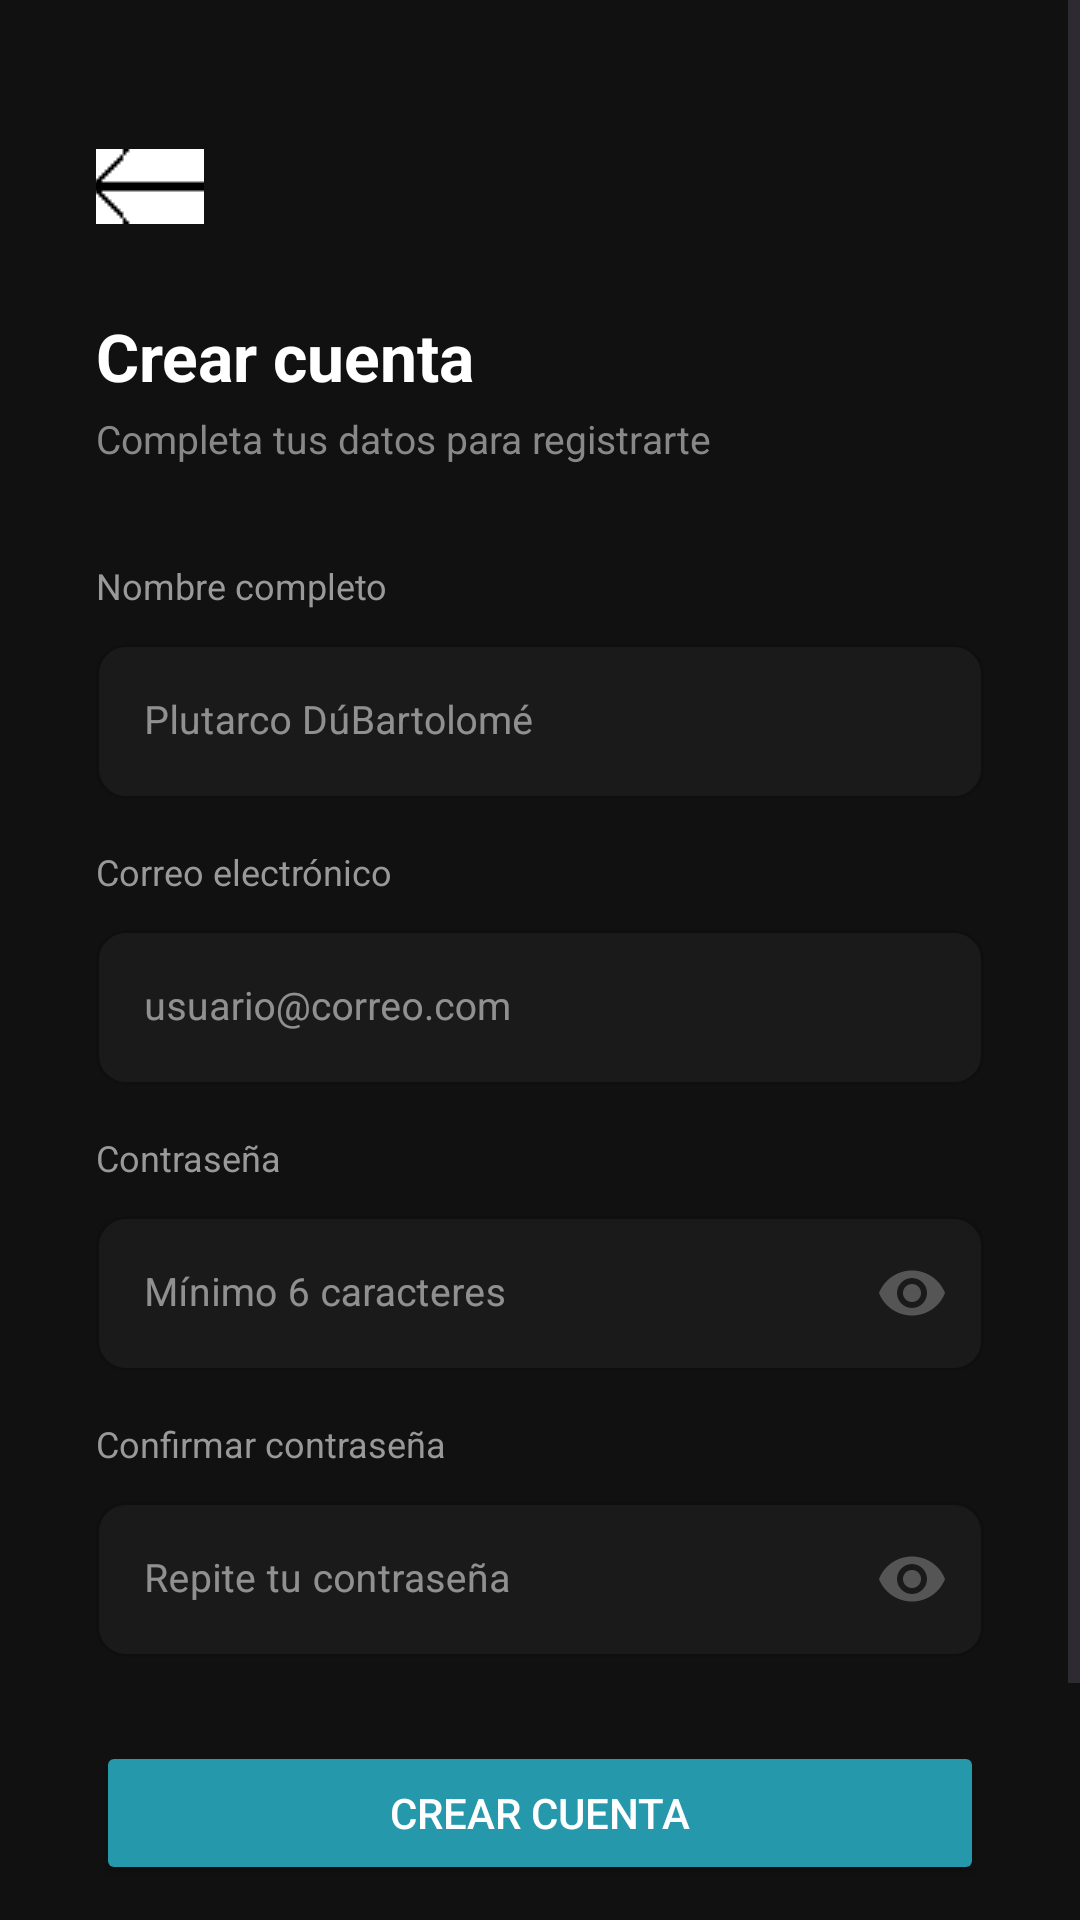

Screen size 1080px x 1920px. Icon name, then its box in pixels as (x1, y1, x2, y2):
arrow back: (96, 149, 204, 224)
